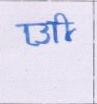i_matra: (57, 13, 73, 41)
